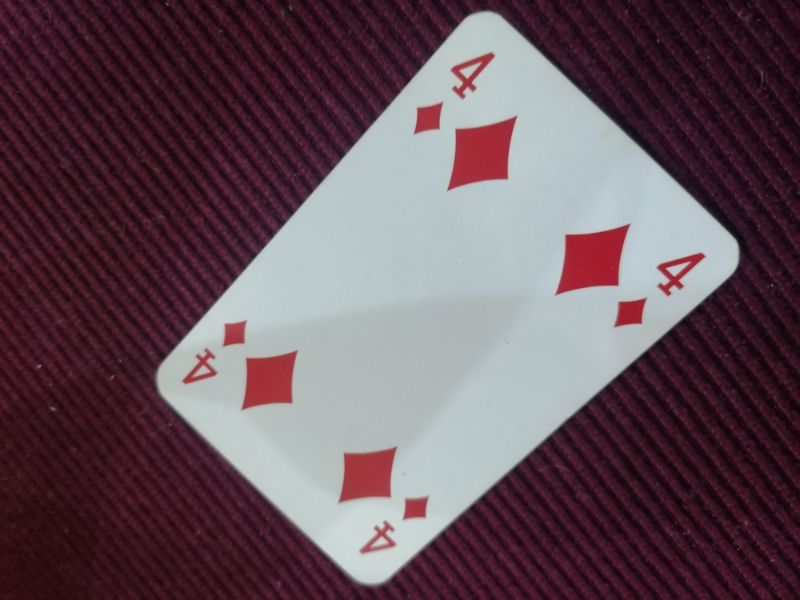4d: (608, 248, 707, 332), (410, 51, 498, 139), (175, 318, 251, 389), (355, 492, 435, 559)
